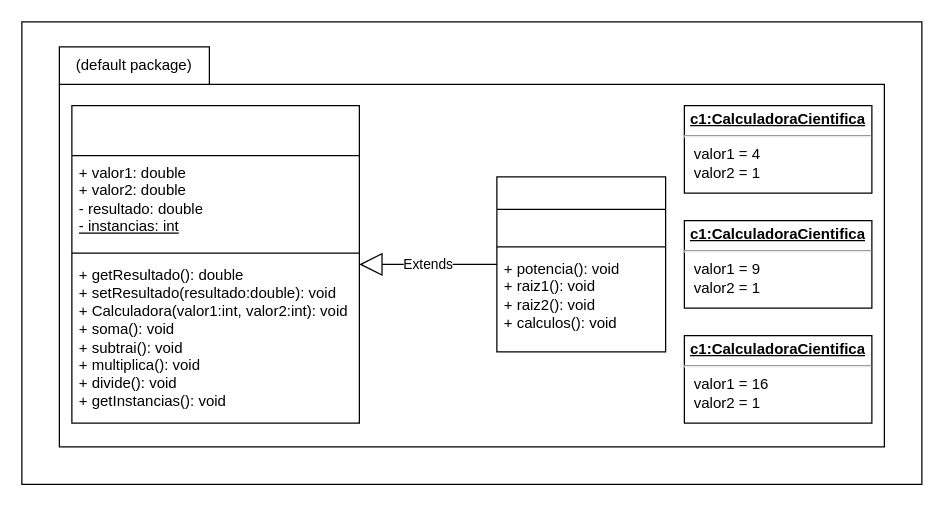
Image size: 944x506. Some labels were removed from this diagram. The shapes that lost their labels are listed below. From the top down, each one's box as (x1, y1, x2, y2) in pixels, then its label:
(71, 104, 359, 423): <<abstract>> Calculadora
(496, 176, 666, 352): CalculadoraCientifica
